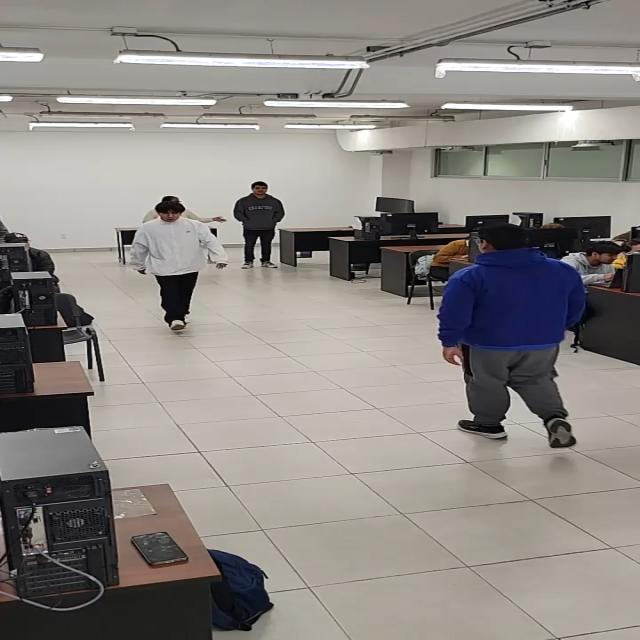Persona: (437, 223, 588, 449), (127, 200, 230, 332), (232, 180, 285, 269)
